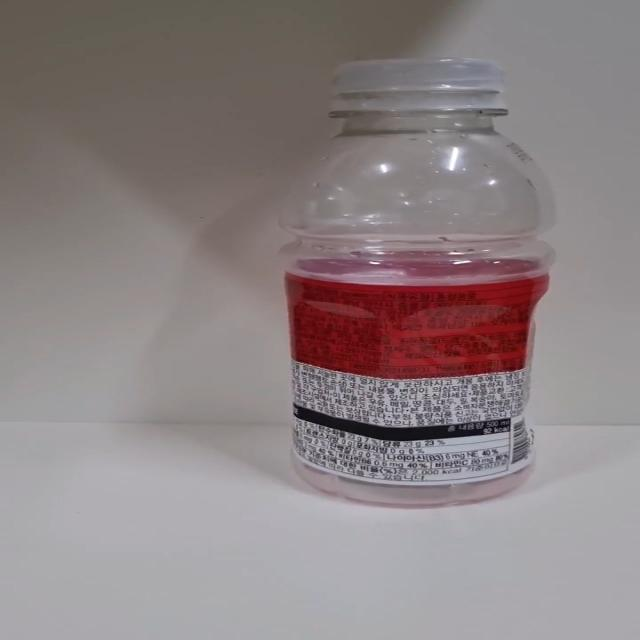Plastic: (279, 59, 557, 510)
